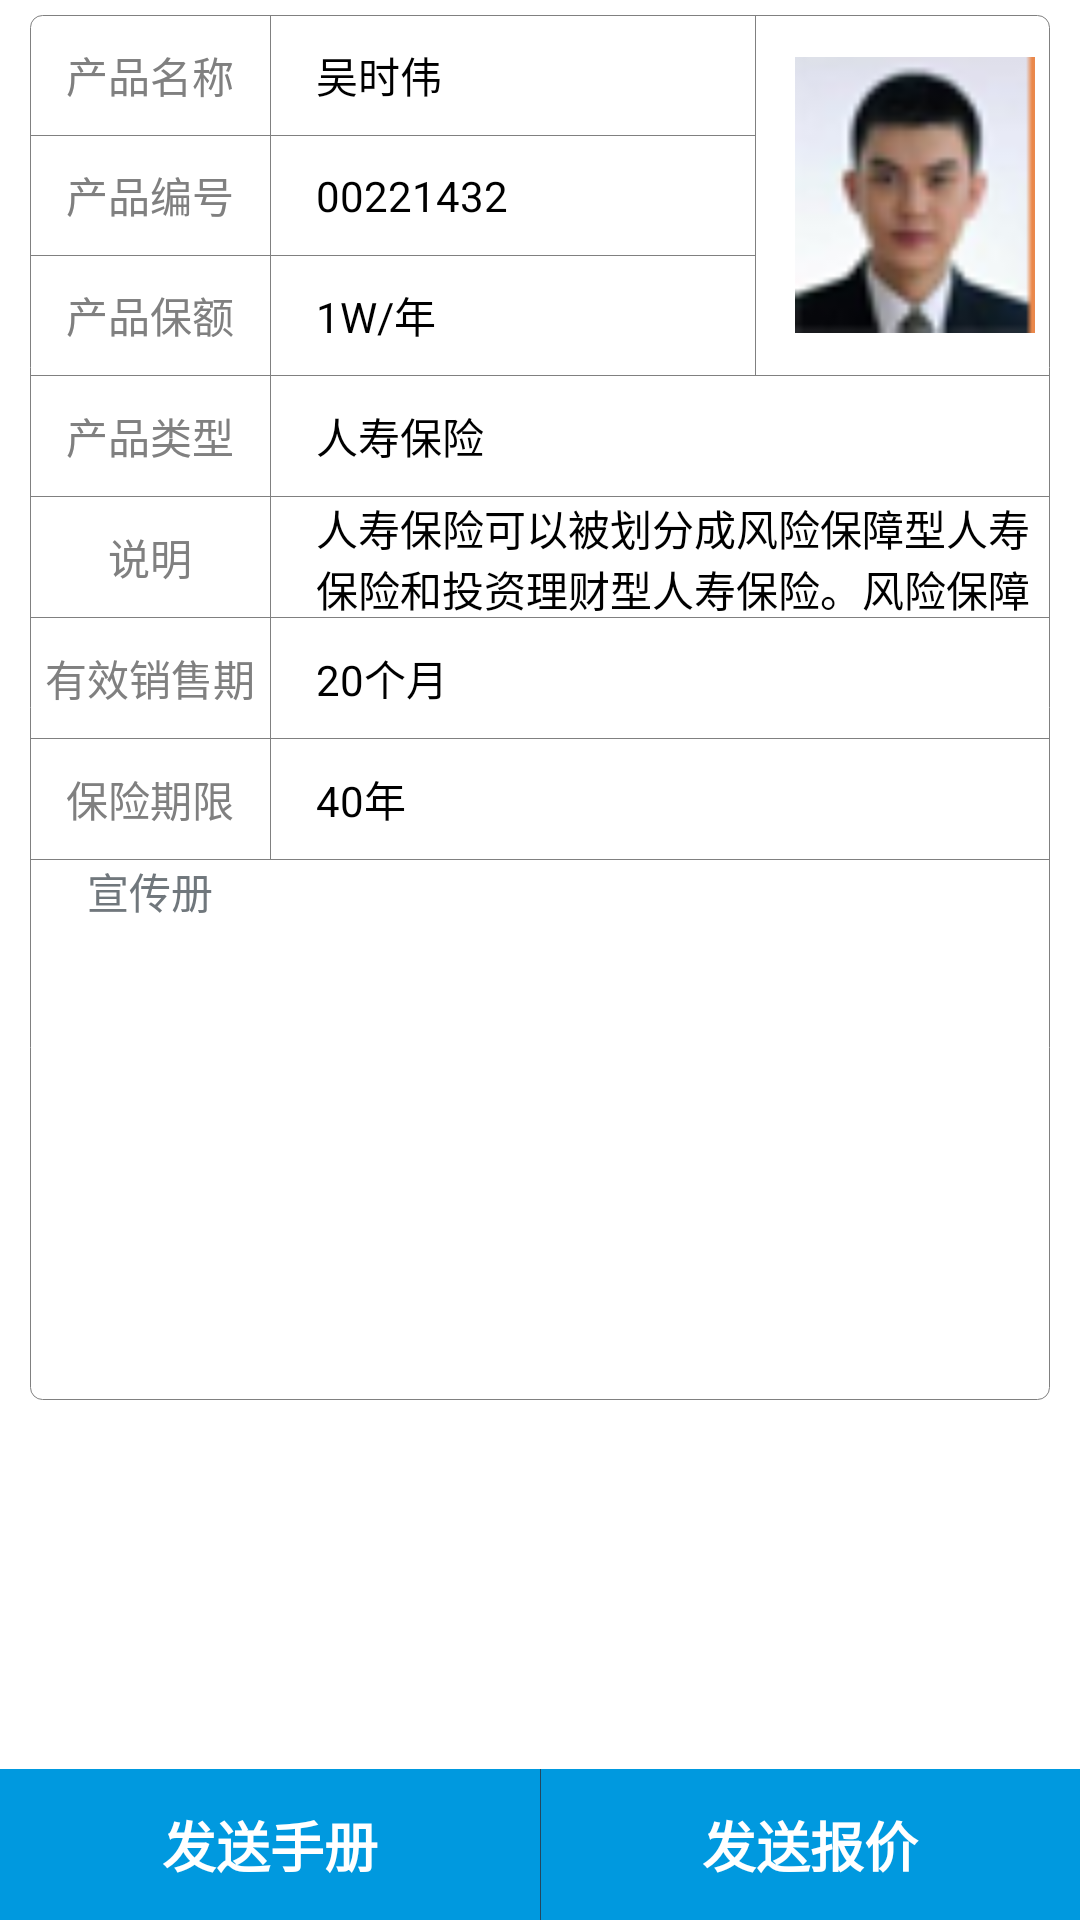

Named icons in this screenshot (1080px x 1920px) and their centers, (x,y):
person head: (915,195)
